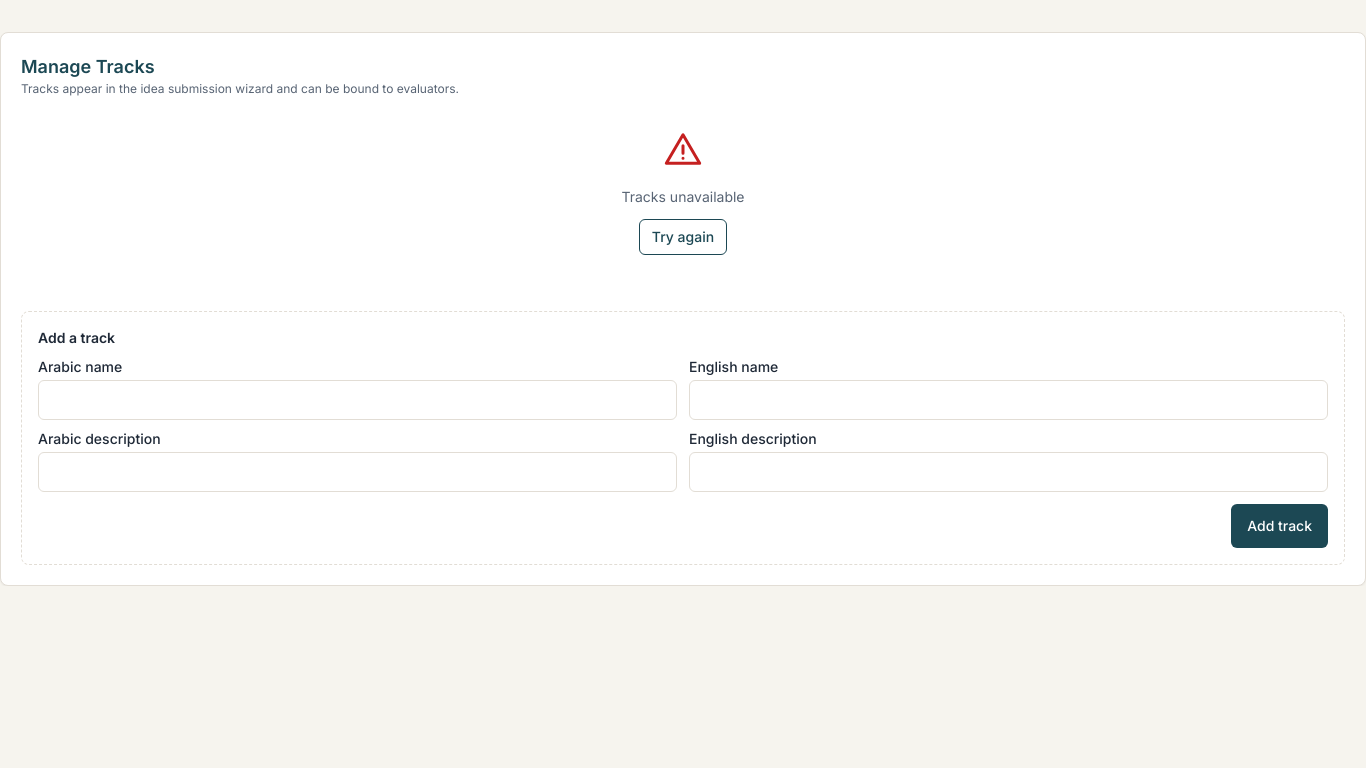
it: TracksManagerComponent › shows an error state with retry when the load fails, and recovers on retry
Click the button "Try again".
click(683, 237)  # box [639,219,727,255]
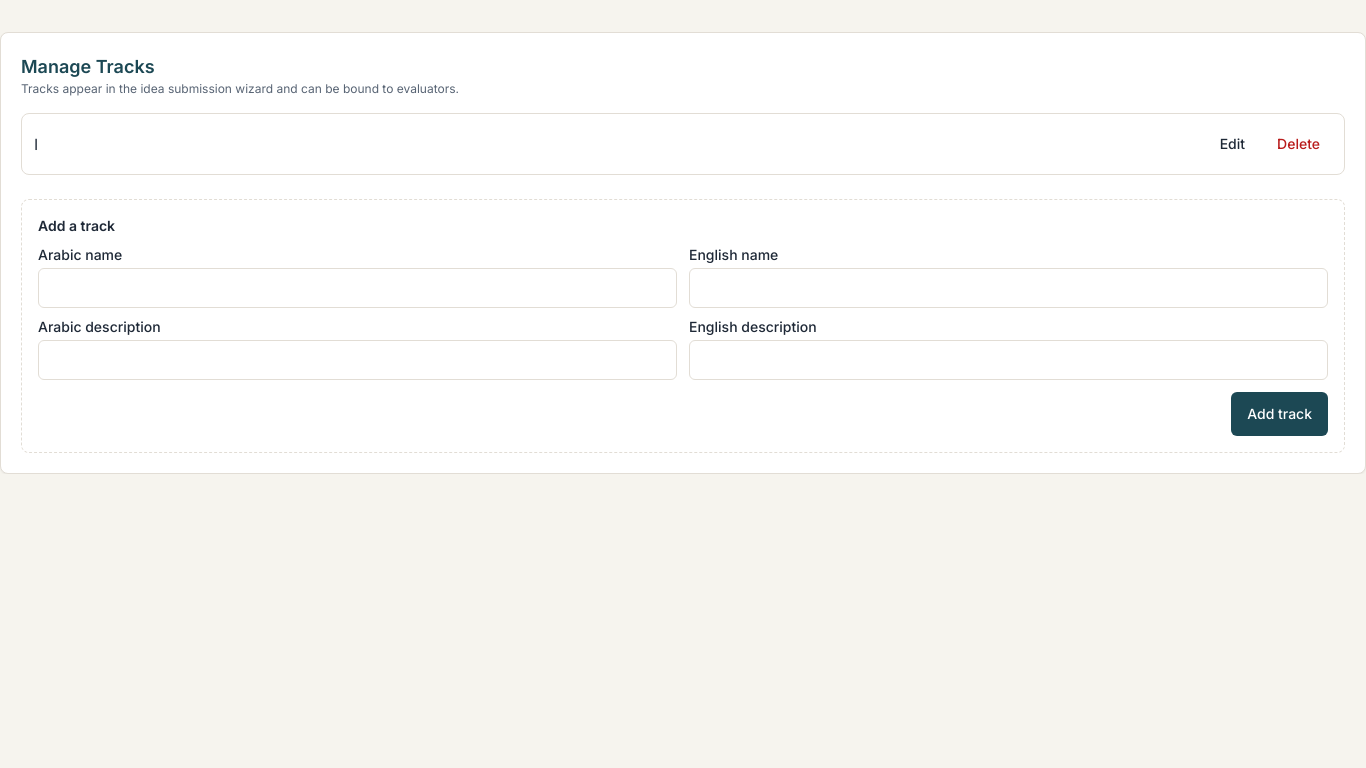
Expected: the text "ا" is shown, [34,132,38,156]
